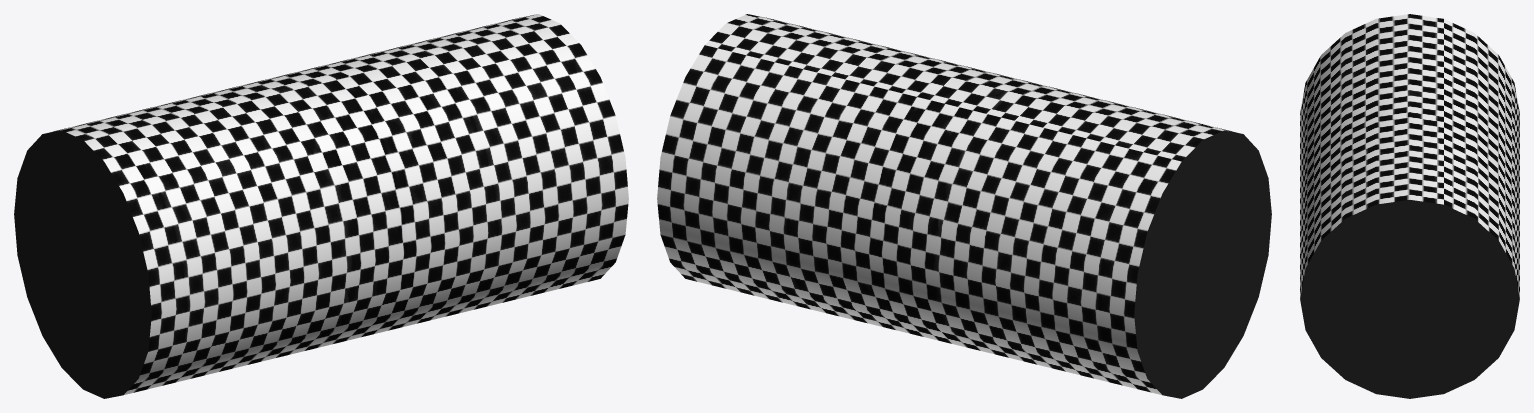
Rendered from cilindro (2).fbx.
3 renders of one model, left to right at view 1: azimuth 30°, elevation 25°; view 2: azimuth 150°, elevation 25°; view 3: azimuth 270°, elevation 25°, orthographic. The views are drawn at different scales.
Parts seen in each view (by area): view 1: pCylinder39; view 2: pCylinder39; view 3: pCylinder39.
Boxes of the visible parts, x1=… form: pCylinder39: x1=14, y1=14, x2=628, y2=398; pCylinder39: x1=657, y1=14, x2=1271, y2=398; pCylinder39: x1=1300, y1=14, x2=1519, y2=398.
Bounding box in the file's own units: 14 × 7 × 7.
1 material, 1 textured.
